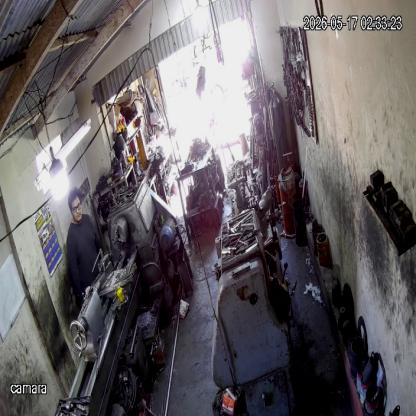lentes: (70, 201, 82, 214)
